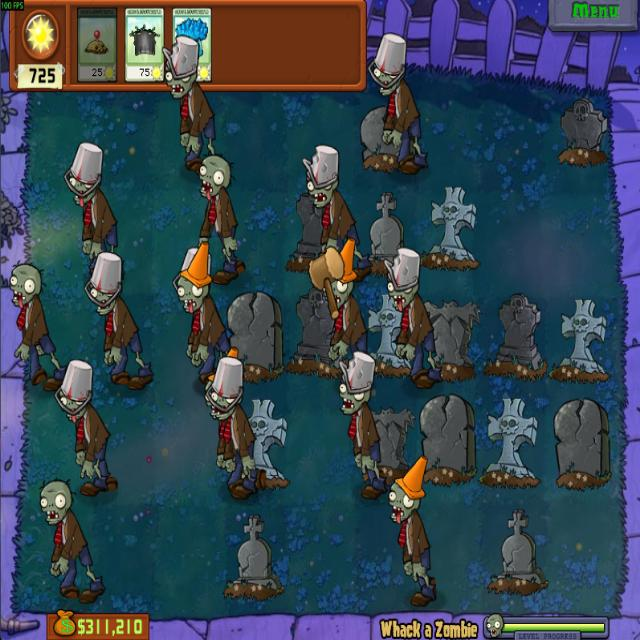buckethead: (61, 140, 105, 205), (366, 32, 410, 97), (53, 358, 95, 422), (82, 251, 124, 315), (212, 358, 245, 422), (172, 247, 211, 293), (196, 153, 232, 200)
conehead: (388, 453, 429, 524), (324, 237, 361, 310), (178, 243, 212, 315), (204, 348, 237, 419)
damaged_buckethead: (298, 146, 344, 207), (161, 34, 200, 99)
grave: (549, 394, 612, 492), (478, 394, 541, 490), (413, 292, 480, 382), (416, 392, 478, 486), (482, 293, 548, 381), (485, 506, 549, 596), (221, 290, 284, 380), (230, 399, 292, 490), (420, 183, 480, 275), (286, 286, 344, 380), (549, 298, 610, 385), (223, 513, 283, 601), (359, 288, 413, 379), (286, 192, 342, 272), (358, 102, 413, 176), (365, 406, 415, 486), (554, 94, 608, 167), (364, 191, 406, 274)
gravebuster: (123, 6, 166, 84)
zombie: (36, 477, 74, 528), (8, 264, 44, 308)
